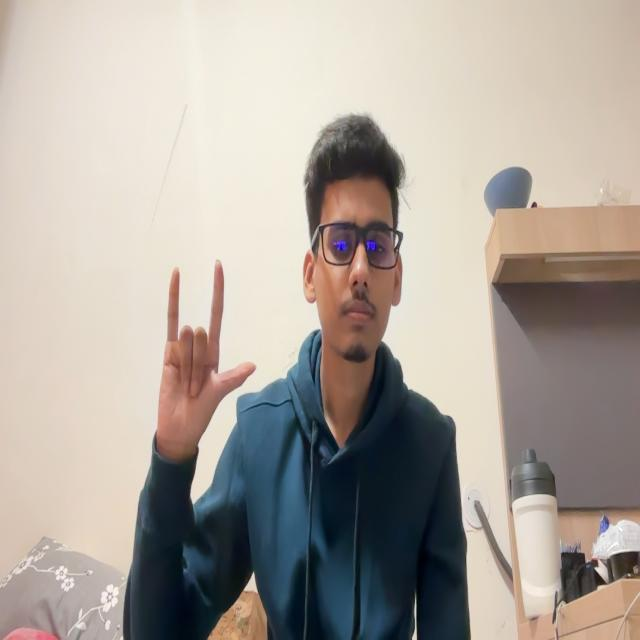Iloveyou: (149, 253, 263, 458)
